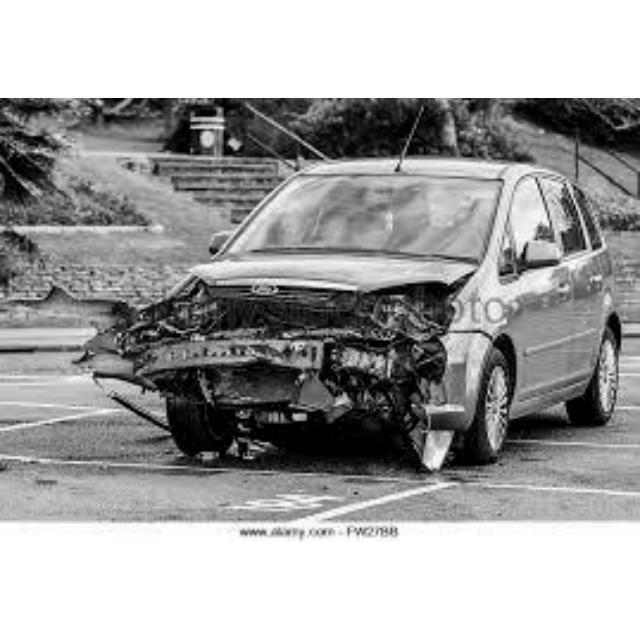bonnet-dent: (167, 248, 452, 326)
front-bumper-dent: (151, 353, 362, 417)
